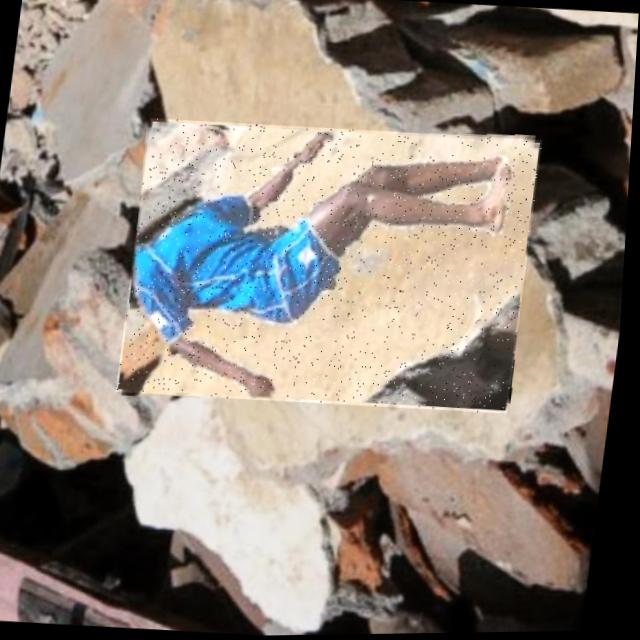Person in Rubble: (119, 113, 545, 418)
